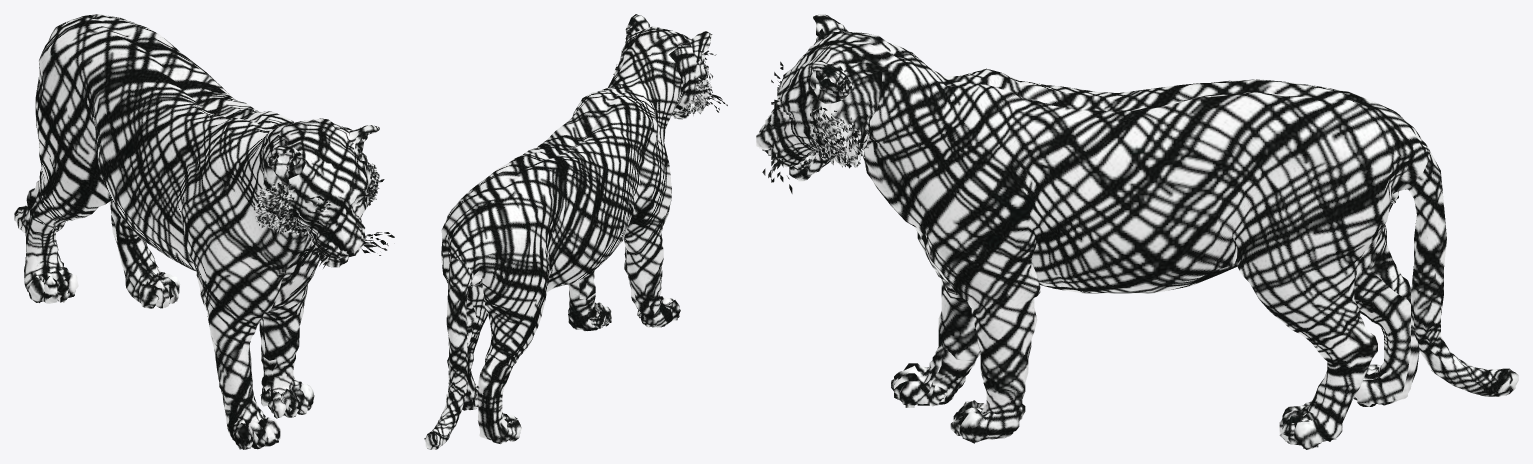
Rendered from V6_DrawnTigerRigged.glb.
3 renders of one model, left to right at view 1: azimuth 30°, elevation 25°; view 2: azimuth 150°, elevation 25°; view 3: azimuth 270°, elevation 25°, orthographic. The views are drawn at different scales.
Visible parts, largest first — view 1: White Tiger Body; view 2: White Tiger Body; view 3: White Tiger Body.
Boxes of the visible parts, x1,y1,x2,y2 form: White Tiger Body: (14, 14, 394, 449); White Tiger Body: (424, 14, 727, 449); White Tiger Body: (756, 14, 1518, 449).
Size of the model in its own units: 45.17 by 114 by 209.
1 material, 1 textured.
